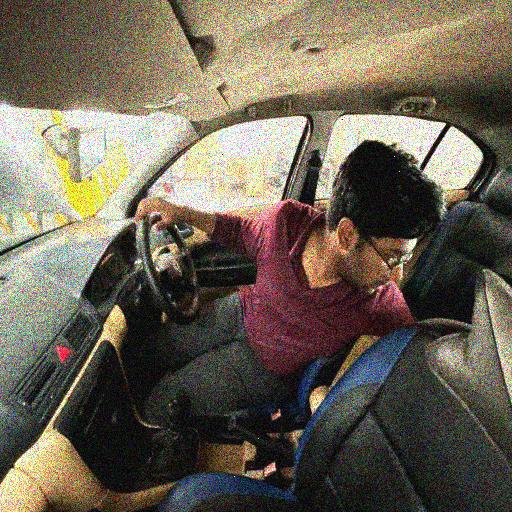Reaching_behind: (136, 137, 449, 382)
